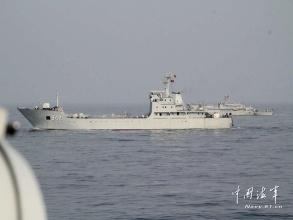warship: (17, 76, 239, 129), (195, 90, 276, 115)
